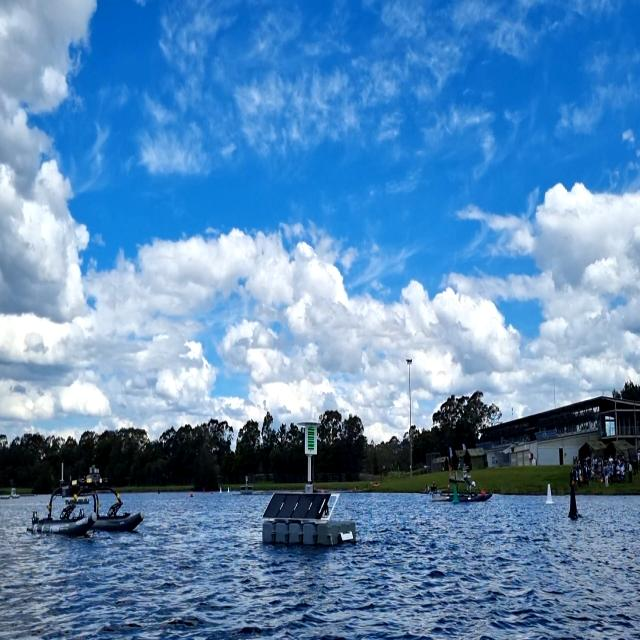led: (306, 425, 316, 453)
